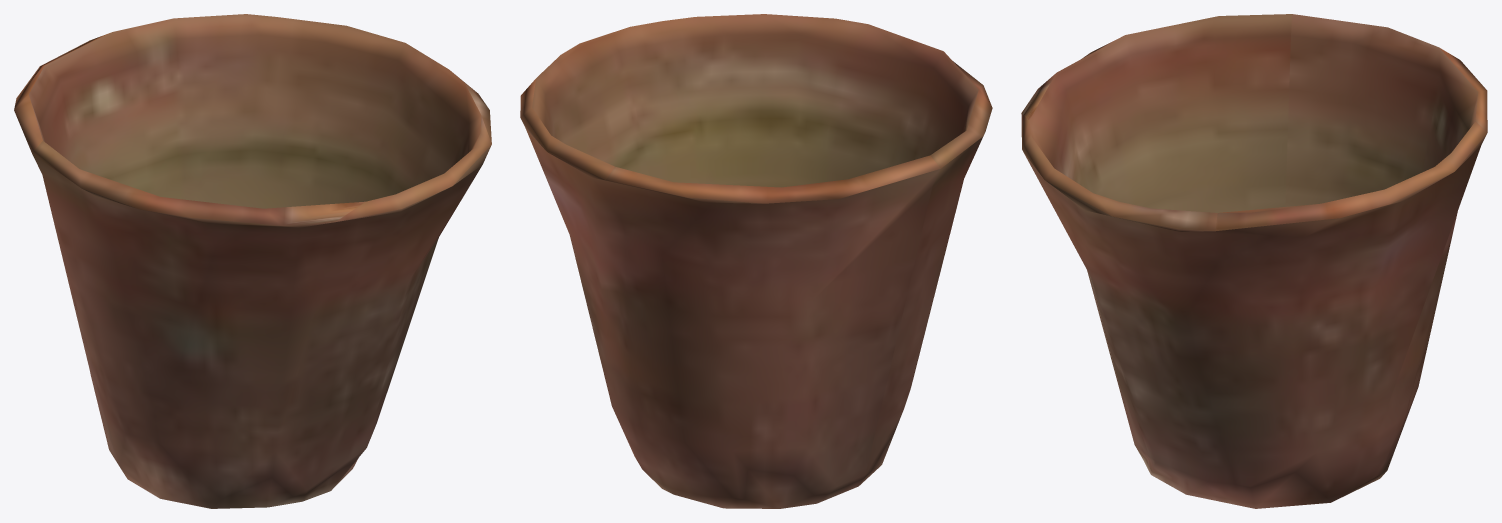
File: chau-cay.glb
3 views of the same model, side by side, from view 1: azimuth 30°, elevation 25°; view 2: azimuth 150°, elevation 25°; view 3: azimuth 270°, elevation 25° (orthographic).
Visible parts, largest first — view 1: planter_pot_clay; view 2: planter_pot_clay; view 3: planter_pot_clay.
Part boxes in pixels (left/top/right/bottom): planter_pot_clay: left=14, top=14, right=491, bottom=508; planter_pot_clay: left=520, top=14, right=992, bottom=508; planter_pot_clay: left=1021, top=14, right=1487, bottom=508.
Bounding box in the file's own units: 0.9912 × 0.8334 × 0.9749.
Materials: 1 (1 with a texture image).
